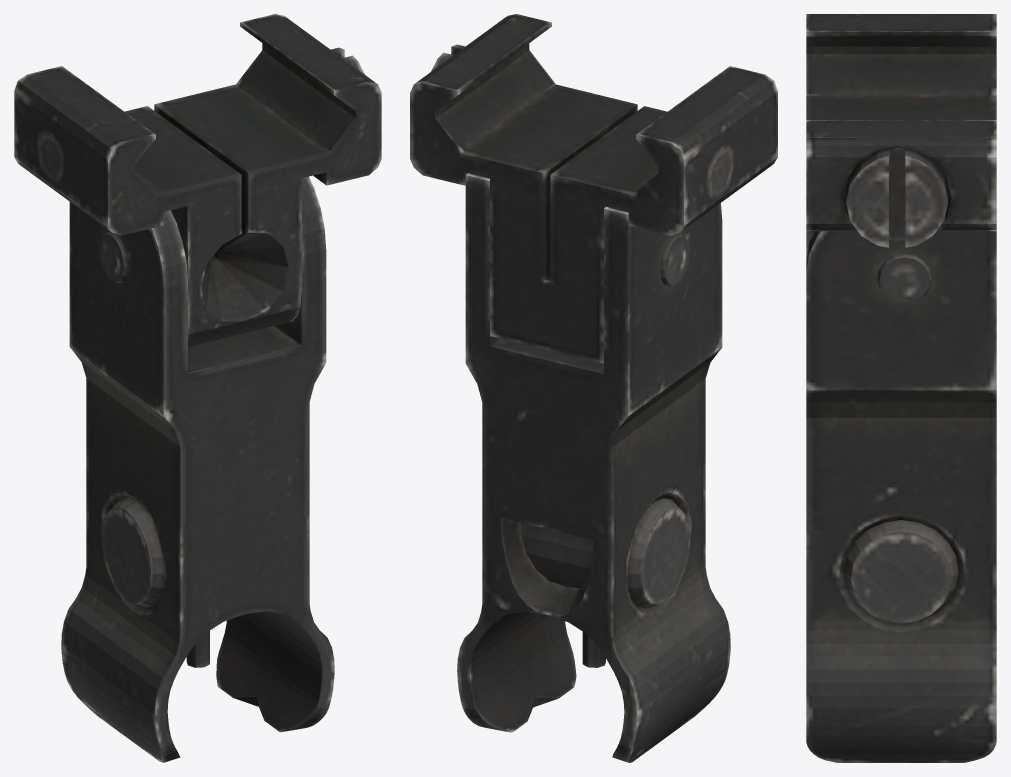
3 views of the same model, side by side, from view 1: azimuth 30°, elevation 25°; view 2: azimuth 150°, elevation 25°; view 3: azimuth 270°, elevation 25° (orthographic).
Visible parts, largest first — view 1: TW_5caf16a2ae92152ac412efbc_PZ_Import; view 2: TW_5caf16a2ae92152ac412efbc_PZ_Import; view 3: TW_5caf16a2ae92152ac412efbc_PZ_Import.
Part boxes in pixels (<box>): TW_5caf16a2ae92152ac412efbc_PZ_Import: <box>14,14,381,762</box>; TW_5caf16a2ae92152ac412efbc_PZ_Import: <box>410,14,777,762</box>; TW_5caf16a2ae92152ac412efbc_PZ_Import: <box>806,14,996,762</box>.
Bounding box in the file's own units: 0.0157 × 0.00895 × 0.0338.
Materials: 1 (1 with a texture image).
